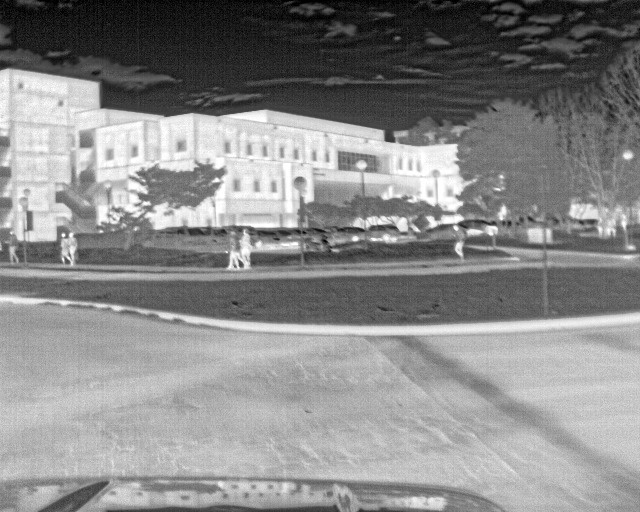car: (368, 224, 401, 249), (187, 223, 226, 244), (276, 226, 307, 247), (429, 217, 453, 243), (472, 224, 493, 250), (329, 224, 348, 251), (165, 223, 189, 242), (253, 228, 277, 246), (355, 223, 369, 251), (310, 224, 327, 247)
people: (57, 229, 79, 269), (240, 221, 257, 270), (227, 225, 242, 272), (5, 227, 22, 262), (453, 224, 467, 262)
